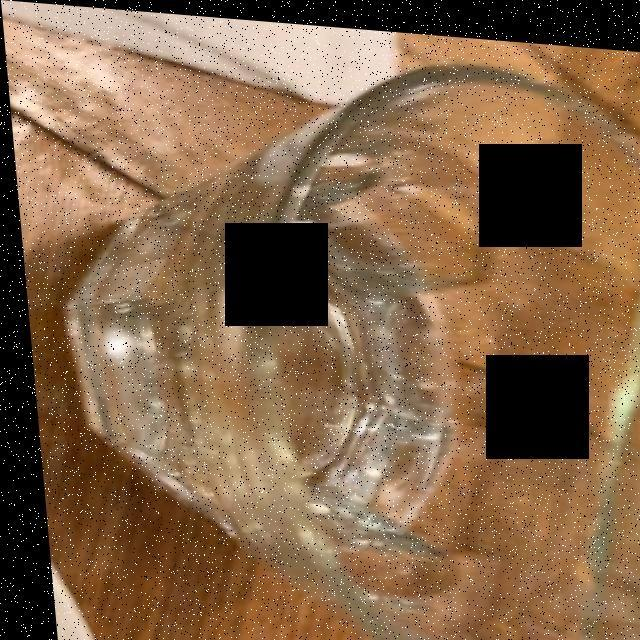water: (58, 147, 455, 552)
